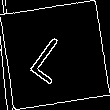L_NE: (28, 26, 82, 84)
